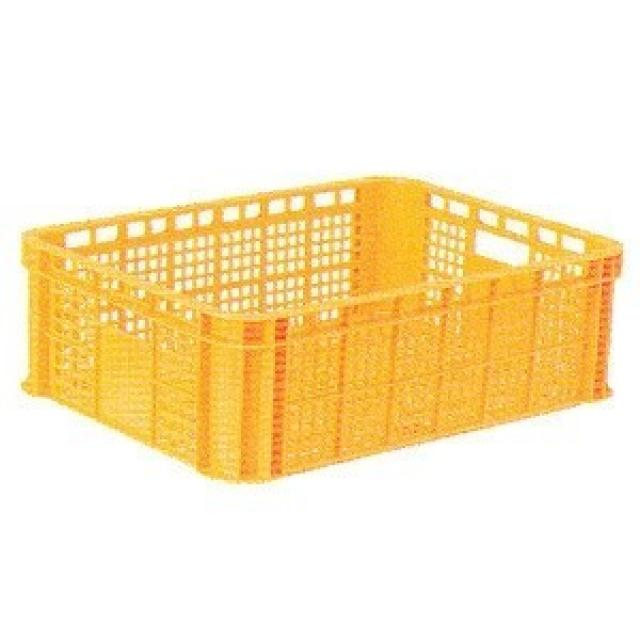basket: (21, 175, 628, 486)
